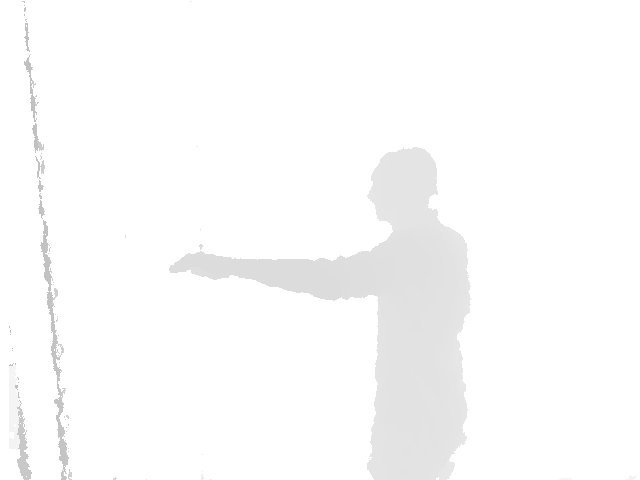head: (368, 147, 439, 225)
person: (169, 147, 473, 480)
